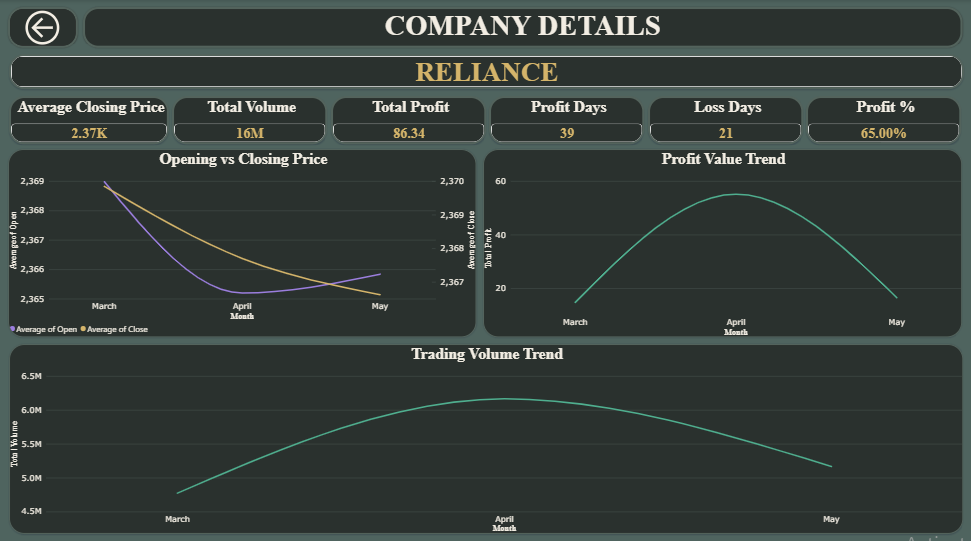

What the dashboard file says about the page in this screenshot:
{"tool":"powerbi","page":{"name":"Company Details","canvas":[1920,1080],"ordinal":3},"visuals":[{"type":"textbox","box":[173.6,13.6,1727.3,80],"z":0},{"type":"actionButton","box":[26.4,13.6,137.3,80],"z":1000},{"type":"cardVisual","title":"Company Name","fields":{"Data":["profit/loss.Selected_Company"]},"box":[27.7,106.9,1875.4,69.2],"z":2000},{"type":"cardVisual","title":"Average Closing Price","fields":{"Data":["Company.Average Closing Price"]},"box":[27.2,187.9,314,95.3],"z":3000},{"type":"cardVisual","title":"Total Volume","fields":{"Data":["Company.Total Volume"]},"box":[348.3,187.8,305,95],"z":4000},{"type":"cardVisual","title":"Total Profit","fields":{"Data":["Company.Total Profit"]},"box":[659.6,187.8,305,95],"z":5000},{"type":"cardVisual","title":"Loss Days","fields":{"Data":["Company.Loss Days"]},"box":[1282.7,188.7,305,95],"z":6000},{"type":"cardVisual","title":"Profit %","fields":{"Data":["Company.Profit %"]},"box":[1593.2,187.9,305,95],"z":7000},{"type":"lineChart","title":"Opening vs Closing Price","fields":{"Category":["Date_table.Month"],"Y":["Avg(stock_market_dataset.Open)"],"Y2":["Avg(stock_market_dataset.Close)"]},"box":[26.1,293.1,920,370],"z":8000},{"type":"lineChart","title":"Profit Value Trend","fields":{"Y":["Company.Total Profit"],"Category":["Date_table.Month"]},"box":[957.3,293.1,940.8,370],"z":9000},{"type":"lineChart","title":"Trading Volume Trend","fields":{"Category":["Date_table.Month"],"Y":["Company.Total Volume"]},"box":[27.2,675.4,1873.7,373.1],"z":10000},{"type":"cardVisual","title":"Profit Days","fields":{"Data":["Company.Profit Days"]},"box":[970,188,305,95],"z":11000}]}

Visuals, with their boxes in screenshot pixels (x1, y1, x2, y2), scaled from the page's 1920x1080 canvas onto the 971x541 screenshot:
textbox: <bbox>88, 7, 961, 47</bbox>
actionButton: <bbox>13, 7, 83, 47</bbox>
"Company Name" cardVisual: <bbox>14, 54, 962, 88</bbox>
"Average Closing Price" cardVisual: <bbox>14, 94, 173, 142</bbox>
"Total Volume" cardVisual: <bbox>176, 94, 330, 142</bbox>
"Total Profit" cardVisual: <bbox>334, 94, 488, 142</bbox>
"Loss Days" cardVisual: <bbox>649, 95, 803, 142</bbox>
"Profit %" cardVisual: <bbox>806, 94, 960, 142</bbox>
"Opening vs Closing Price" lineChart: <bbox>13, 147, 478, 332</bbox>
"Profit Value Trend" lineChart: <bbox>484, 147, 960, 332</bbox>
"Trading Volume Trend" lineChart: <bbox>14, 338, 961, 525</bbox>
"Profit Days" cardVisual: <bbox>491, 94, 645, 142</bbox>
